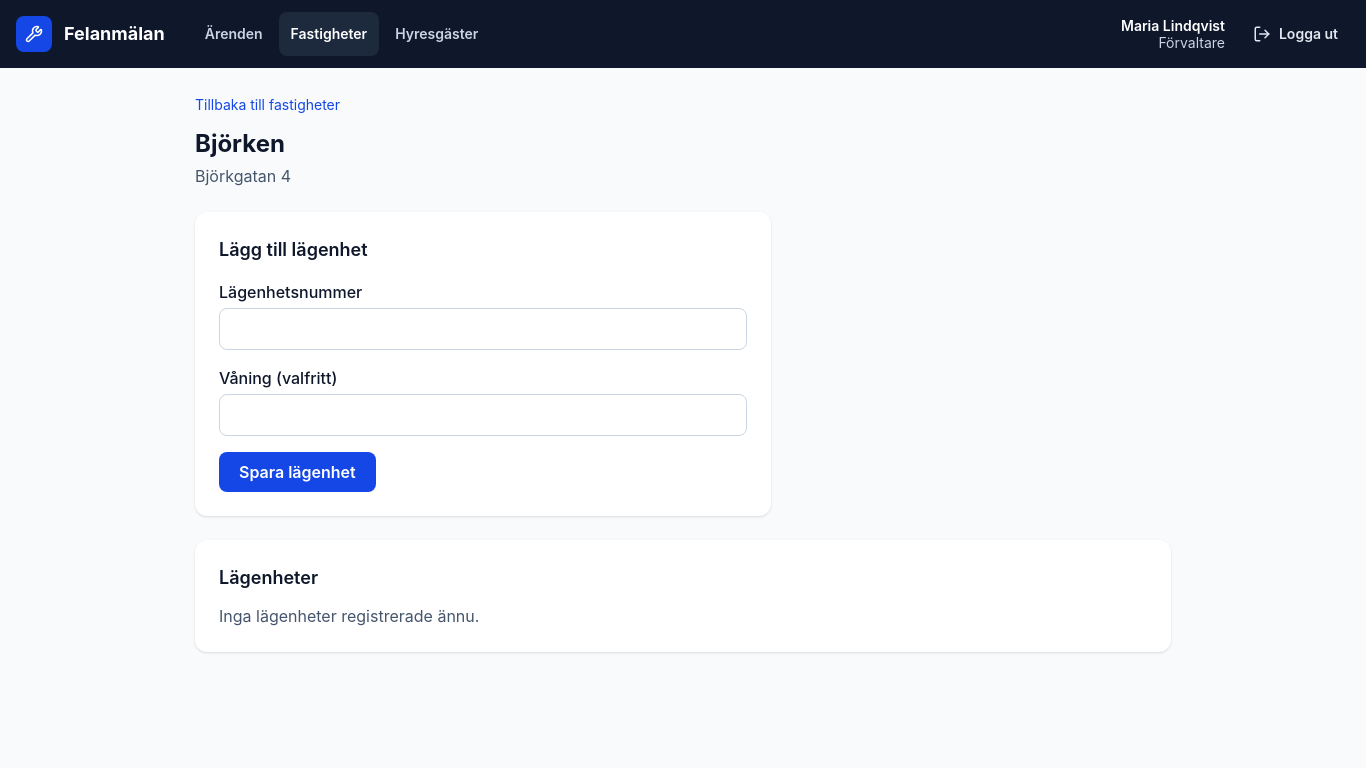
Test: ApartmentsPage – issue #12 › tillåter samma nummer i olika fastigheter
The image size is (1366, 768).
expect the text "Inga lägenheter registrerade ännu." is shown: met, box [219,606,479,626]
Step 1. Type "1001" into the field labelled "Lägenhetsnummer" → (483, 329), box [219,308,747,350]
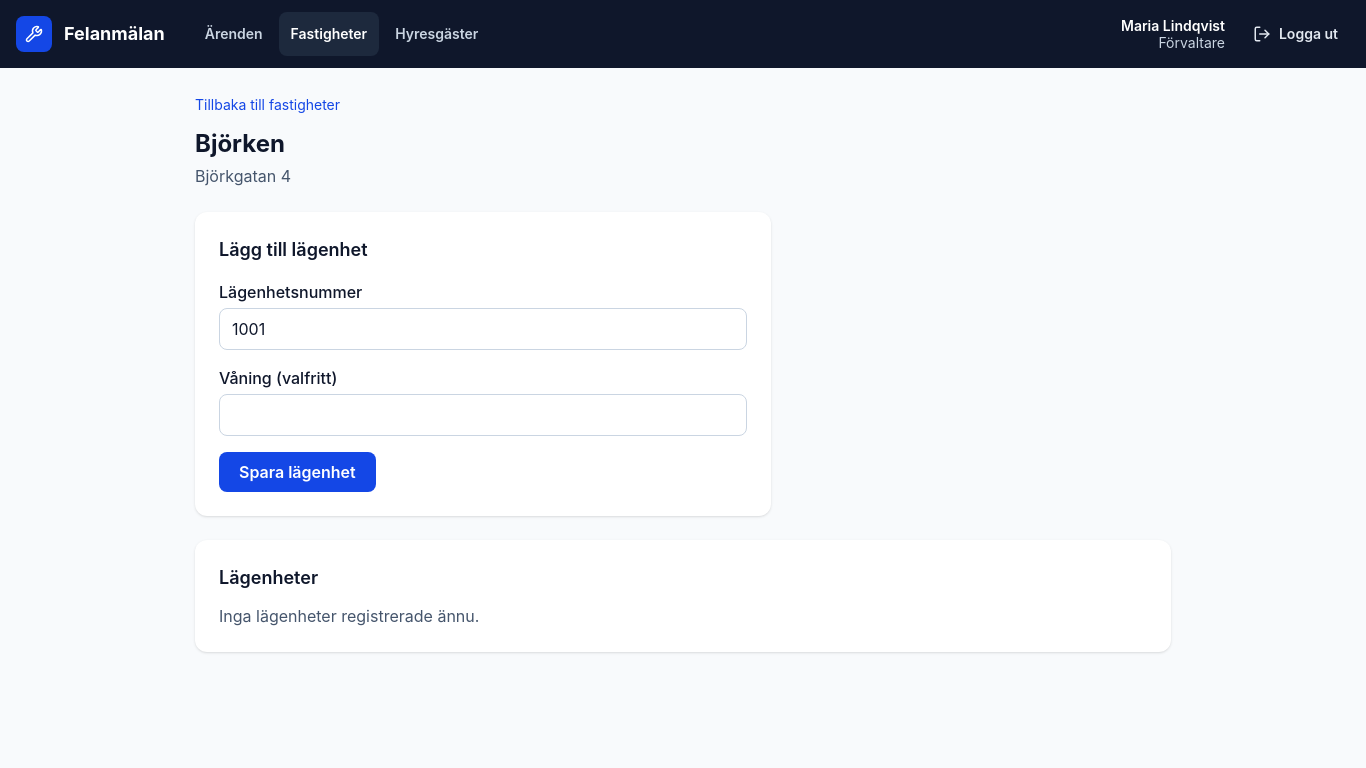
Step 2. Type "2" into the number field labelled "Våning (valfritt)" → (483, 415), box [219,394,747,436]
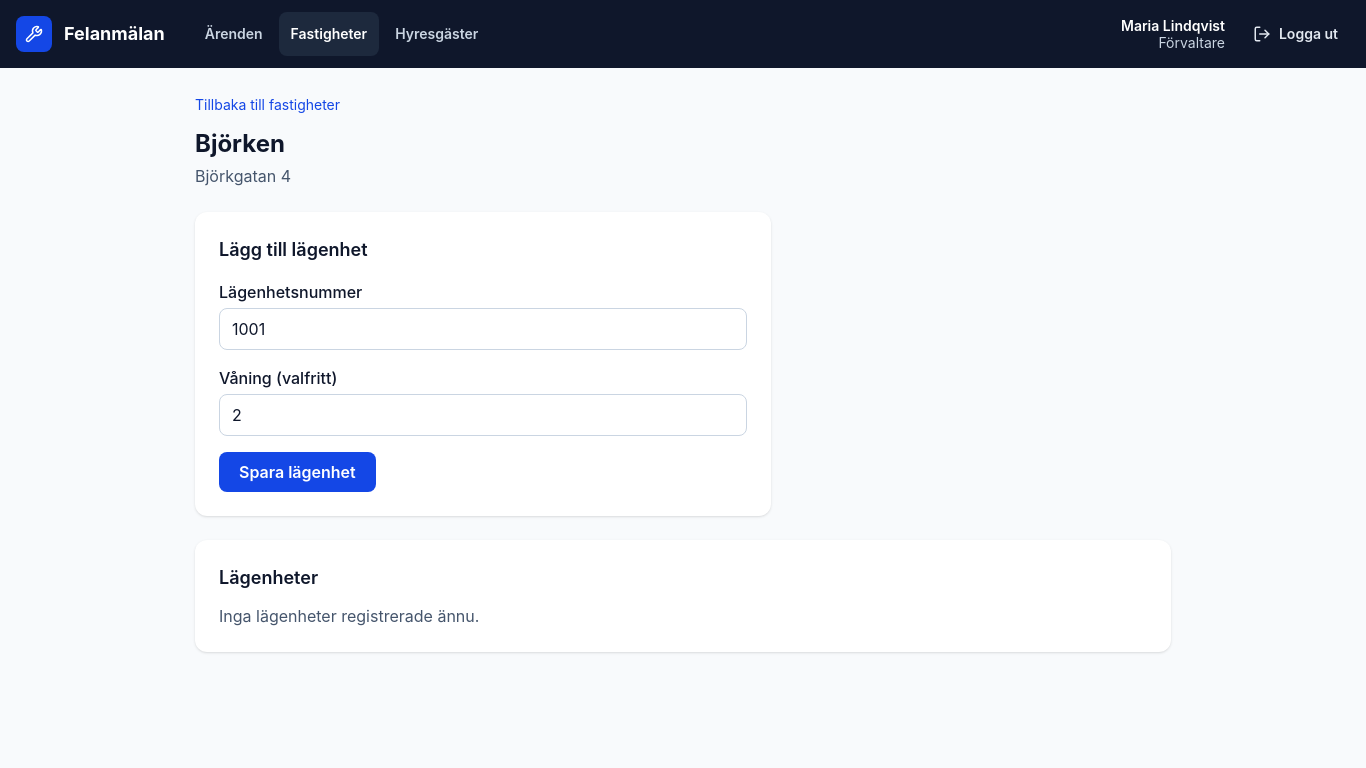
Step 3. Click the button "Spara lägenhet" → (297, 472), box [219,452,376,492]
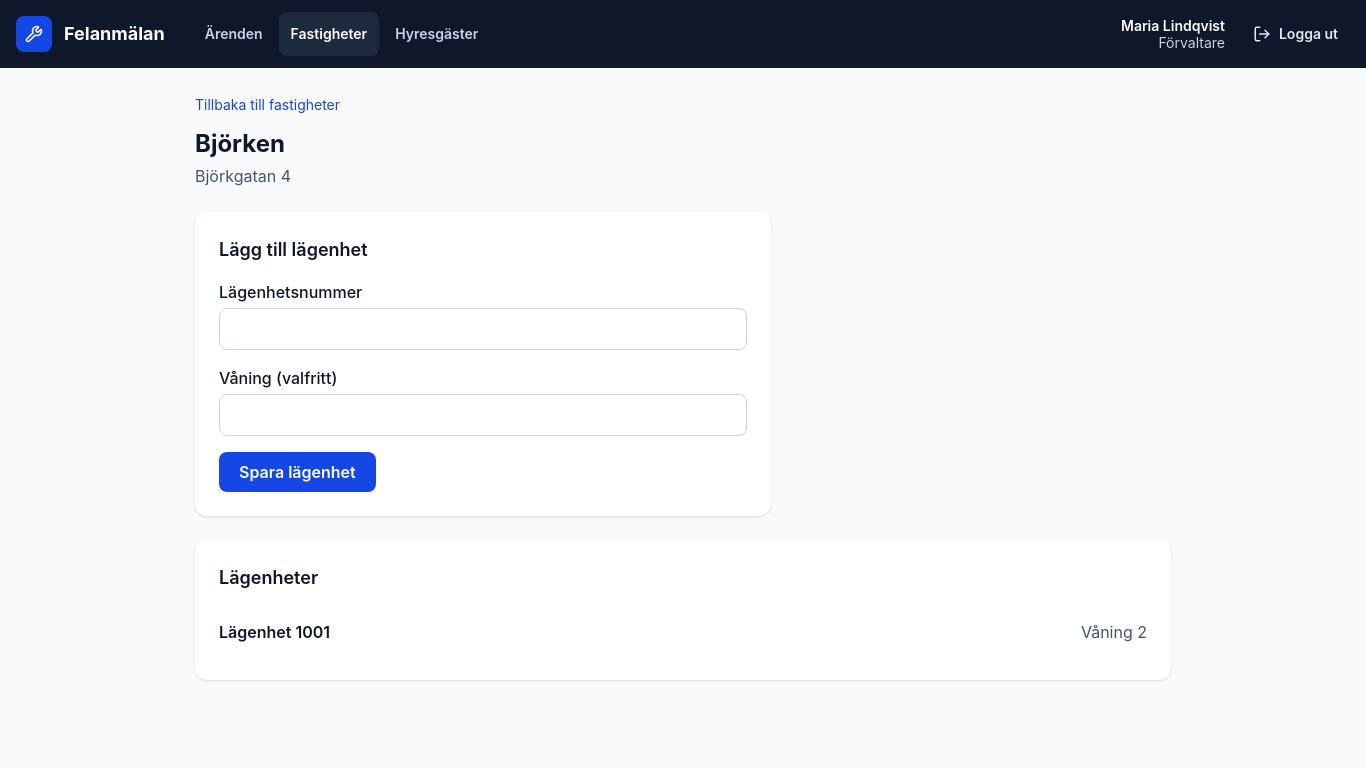
expect the text "Lägenhet 1001" is shown: met, box [219,620,330,644]
expect the text "Våning 2" is shown: met, box [1081,620,1147,644]
